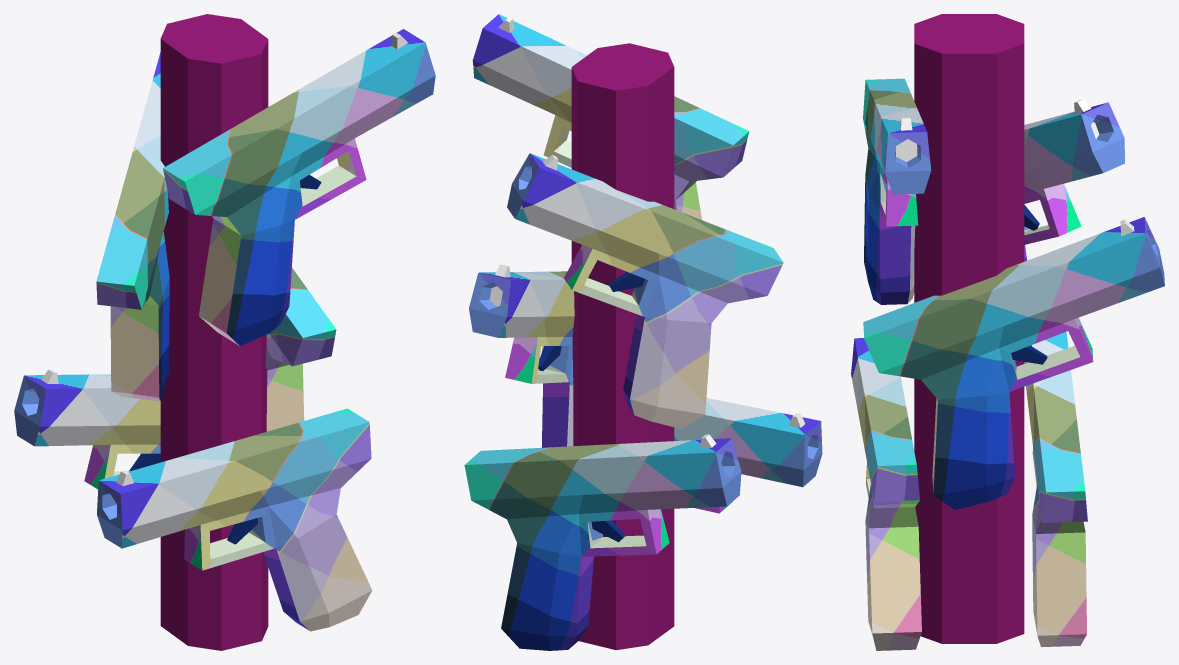
The model's file is 016_Pistol.fbx.
The picture shows the model from 3 angles, left to right: view 1: azimuth 30°, elevation 25°; view 2: azimuth 150°, elevation 25°; view 3: azimuth 270°, elevation 25°; orthographic projection. The views are drawn at different scales.
Visible parts, largest first — view 1: pistol; view 2: pistol; view 3: pistol.
Boxes of the visible parts, bbox=[...] form: pistol: bbox=[14, 14, 435, 650]; pistol: bbox=[464, 14, 822, 650]; pistol: bbox=[851, 14, 1164, 650].
Bounding box in the file's own units: 59.6 × 100 × 48.19.
